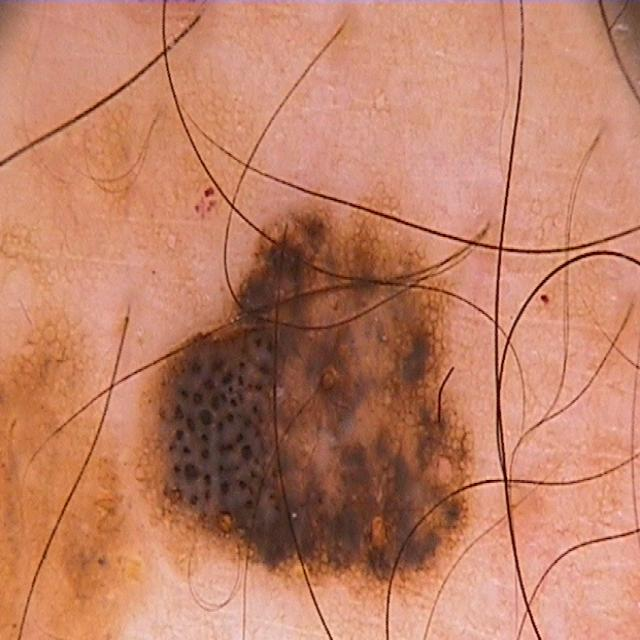Melanoma: (80, 142, 531, 640)
